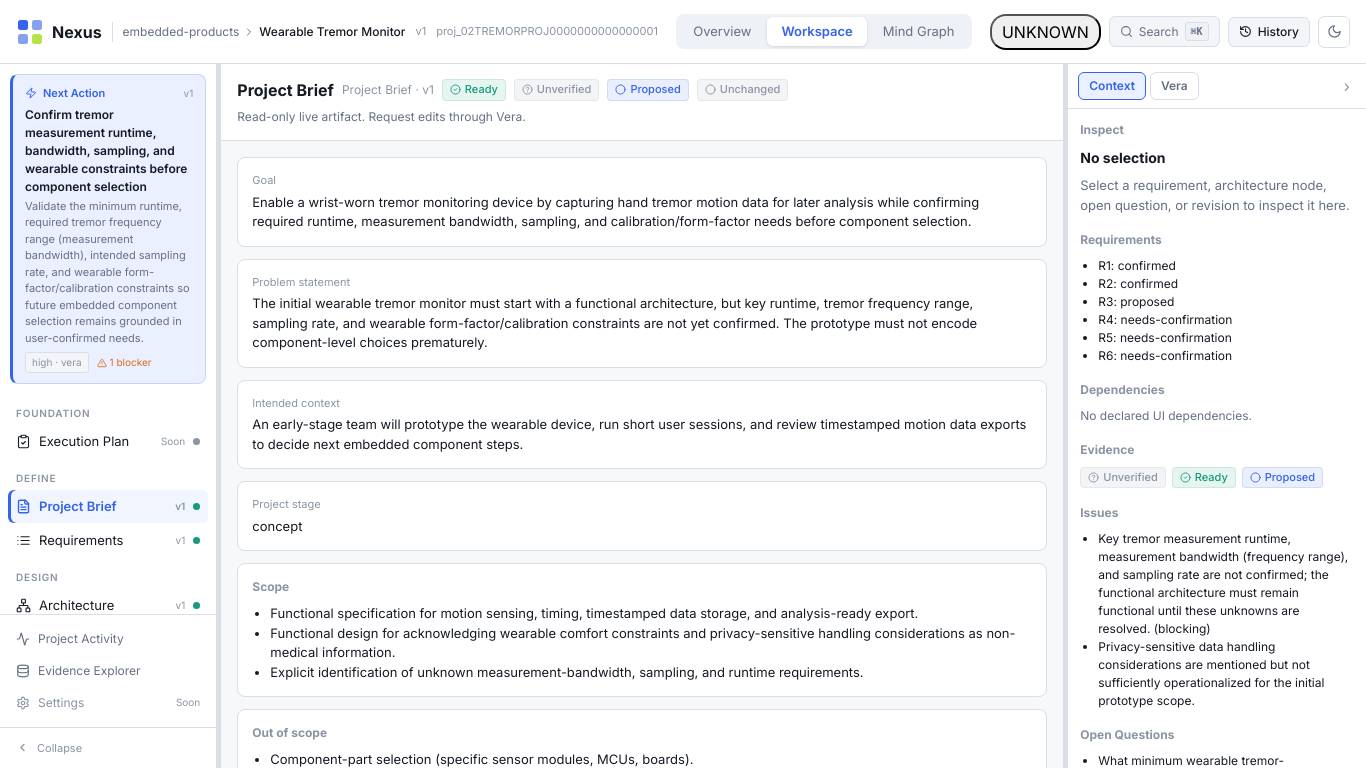
Test: Nexus web routing and project workspace › loads a persisted project from the project route and opens history
The image size is (1366, 768).
Expected: the tab "Vera" is shown, left=1150, top=72, right=1199, bottom=100
Click the button "History" at (1269, 32), box left=1228, top=16, right=1310, bottom=46
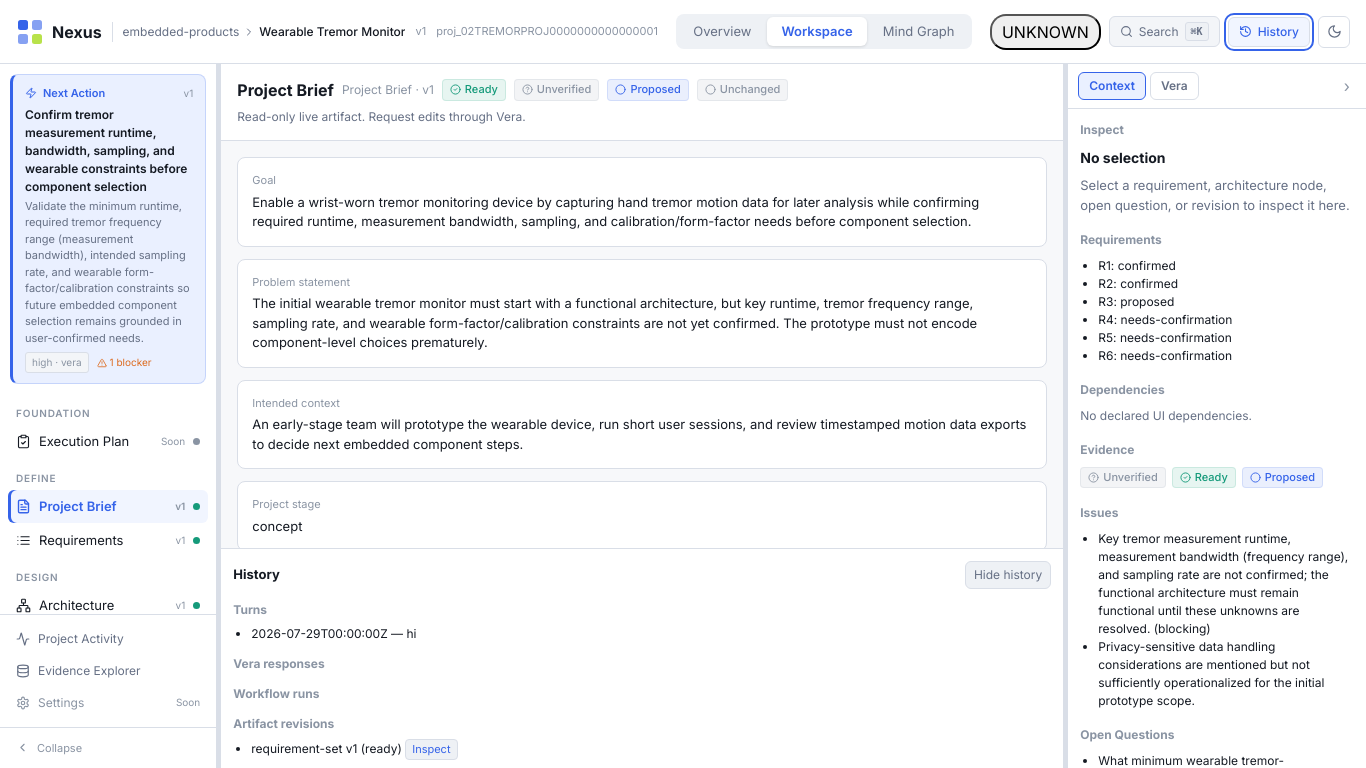
Expected: the heading "Artifact revisions" is shown, left=233, top=716, right=334, bottom=731
